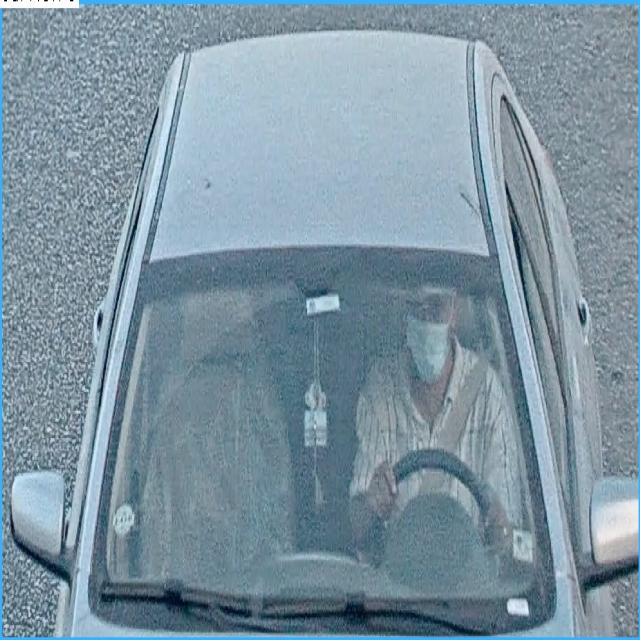windshield: (105, 264, 551, 626)
